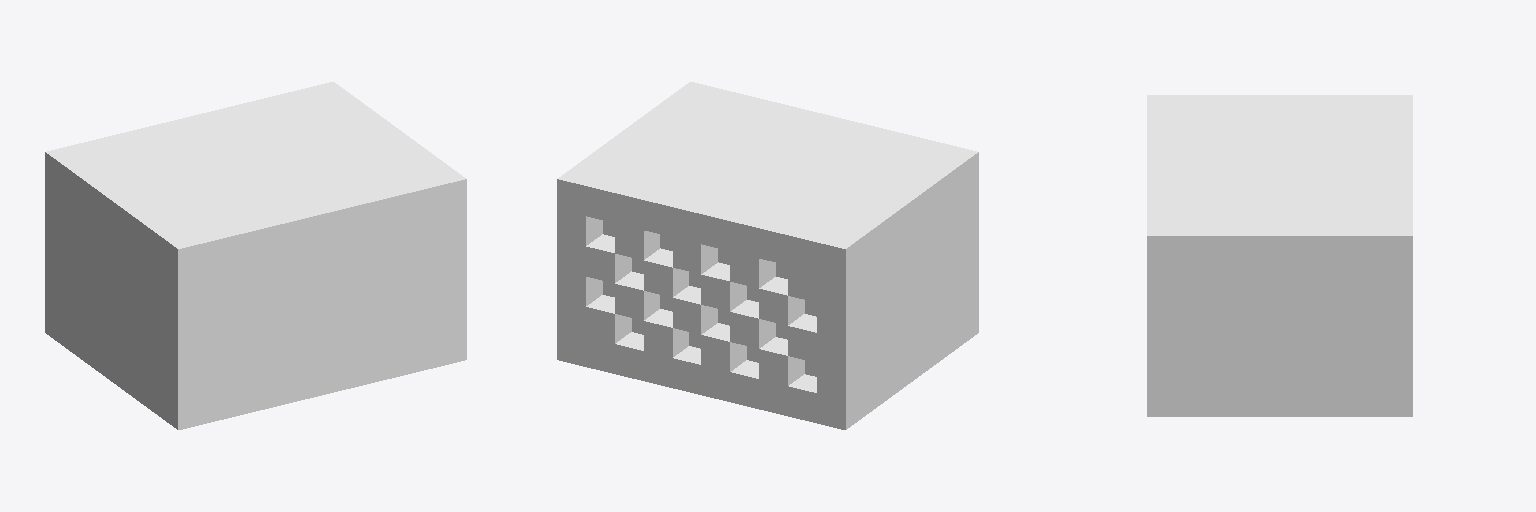
The model's file is cooler_air.obj.
3 renders of one model, left to right at view 1: azimuth 30°, elevation 25°; view 2: azimuth 150°, elevation 25°; view 3: azimuth 270°, elevation 25°, orthographic.
Visible parts, largest first — view 1: object 1; view 2: object 1; view 3: object 1.
Part boxes in pixels (bbox=[...]): object 1: bbox=[45, 82, 466, 429]; object 1: bbox=[557, 82, 978, 429]; object 1: bbox=[1147, 95, 1412, 416].
Bounding box in the file's own units: 1 × 0.6 × 0.8.